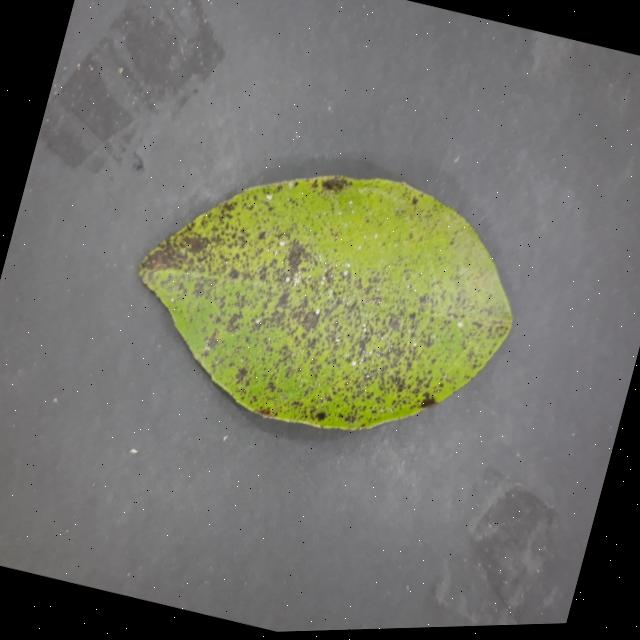greasy_spot: (139, 175, 511, 429)
